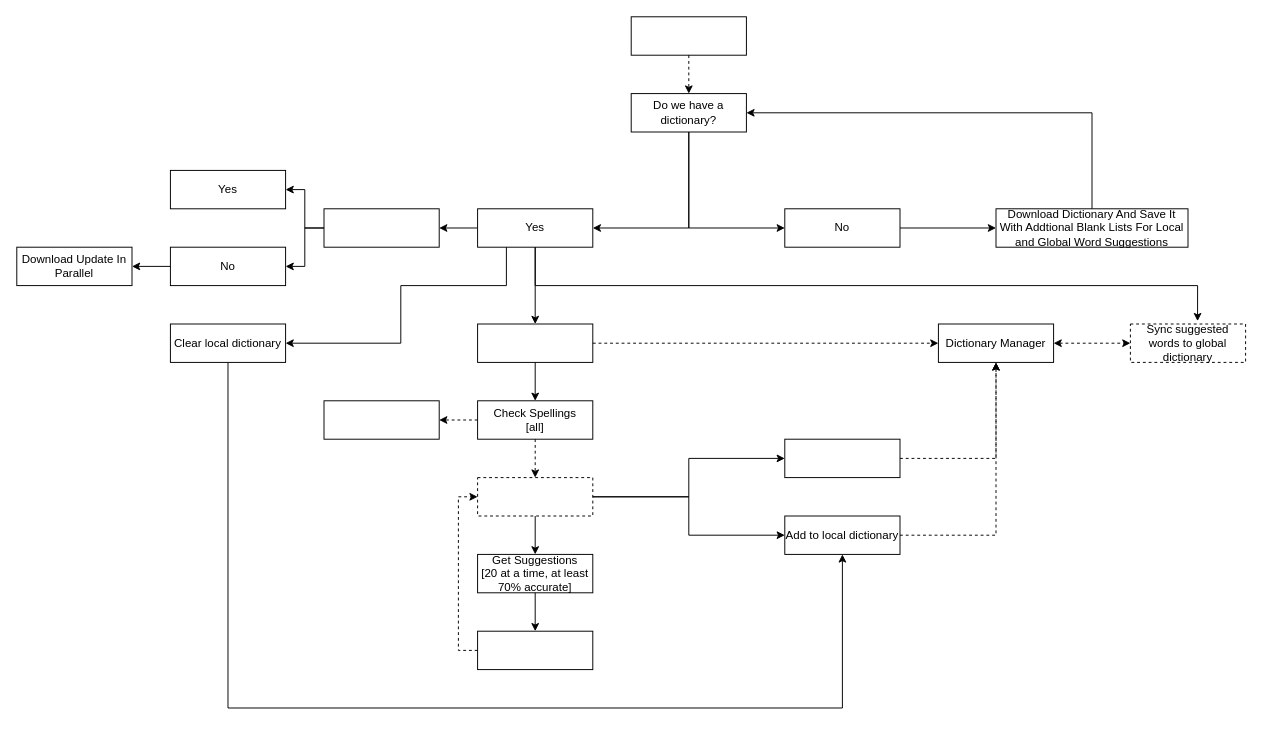
Some shapes in this 1262 by 732 pixel diagram are drawn without their labels. Each missing label, with the centre of its shape:
"Add to global dictionary" belongs at point 842,458.
"App Start" belongs at point 688,35.
"Build document and dictionary manager" belongs at point 535,342.
"Correct Word" belongs at point 381,419.
"Incorrect Words" belongs at point 535,496.
"Is it up to date?" belongs at point 381,227.
"Pick suggestion" belongs at point 535,650.
